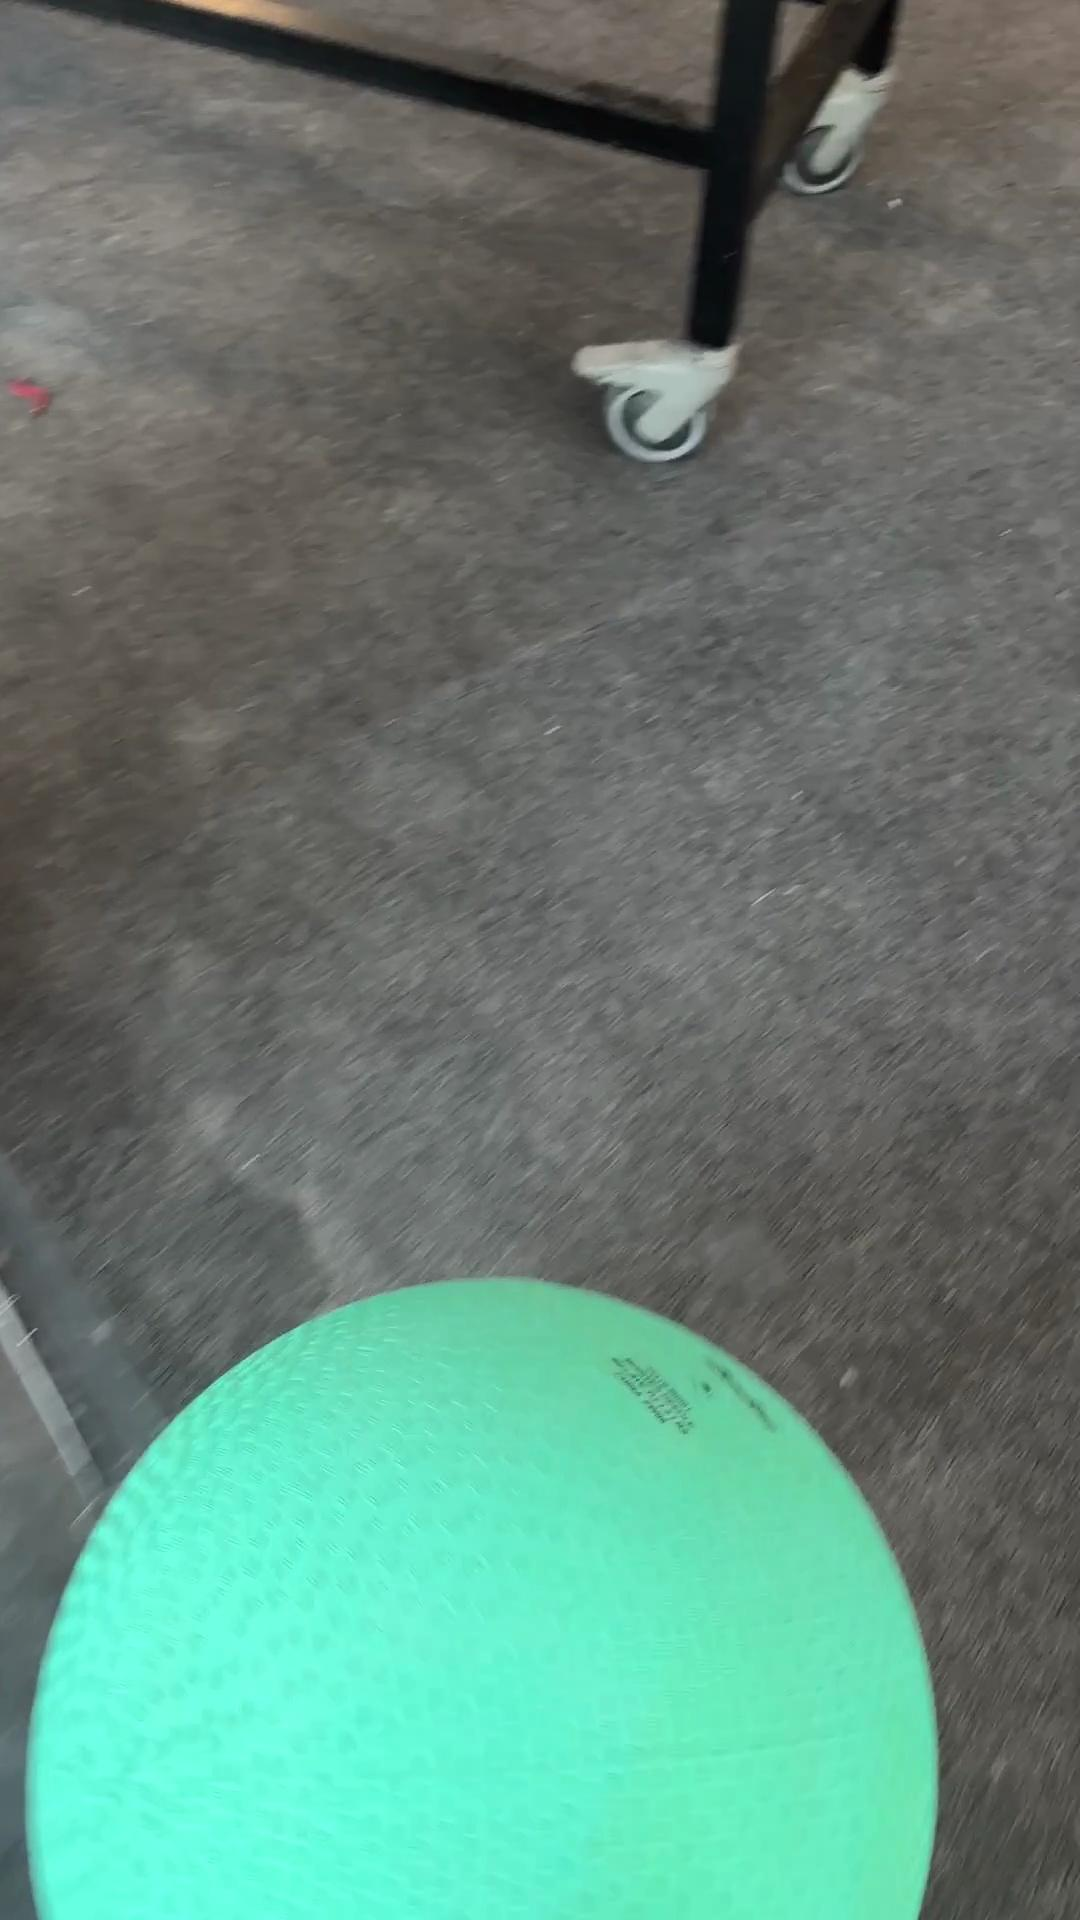ALGAE: (22, 1273, 942, 1916)
